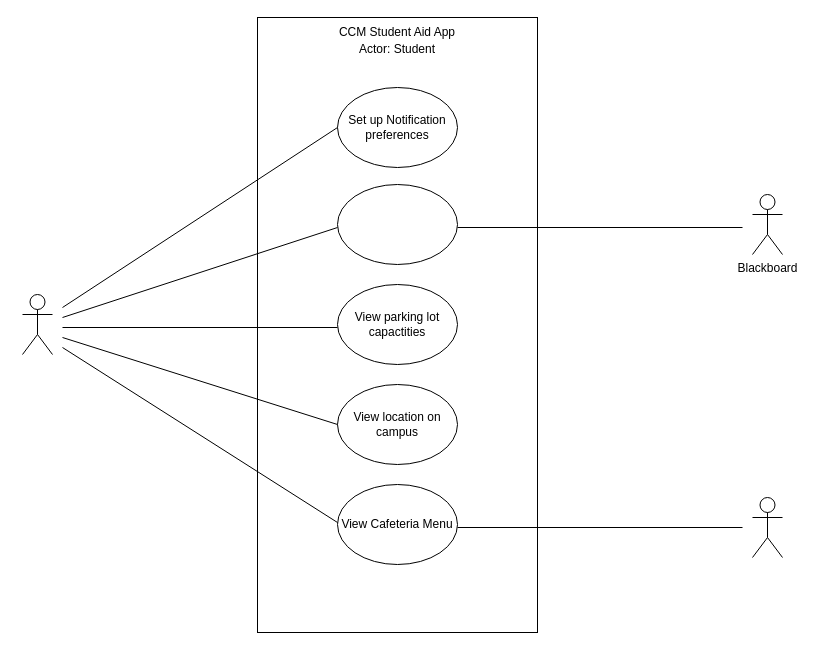
Image size: 822x650. Some labels were removed from this diagram. The box of each missing label's shape, as (x1, y1, x2, y2) in pixels:
CCM Website: (752, 496, 782, 558)
Student: (22, 294, 52, 354)
View assignments: (336, 184, 458, 264)
